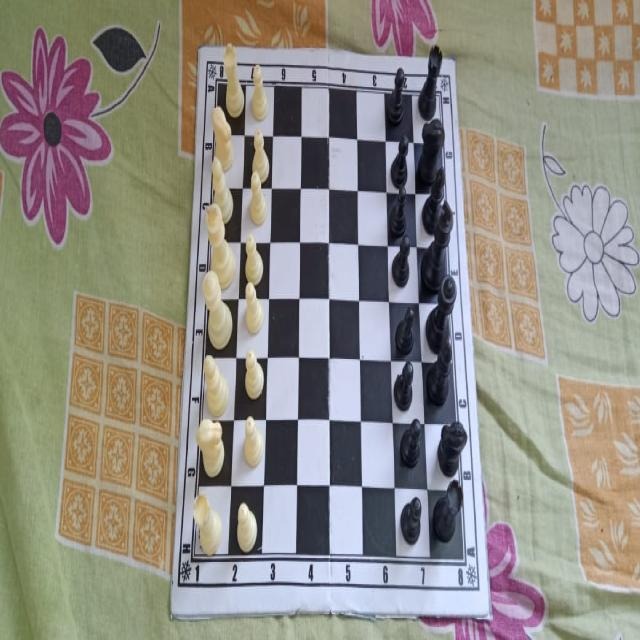corners: (194, 40, 208, 60), (165, 610, 178, 624), (451, 51, 458, 69), (484, 610, 492, 624)
